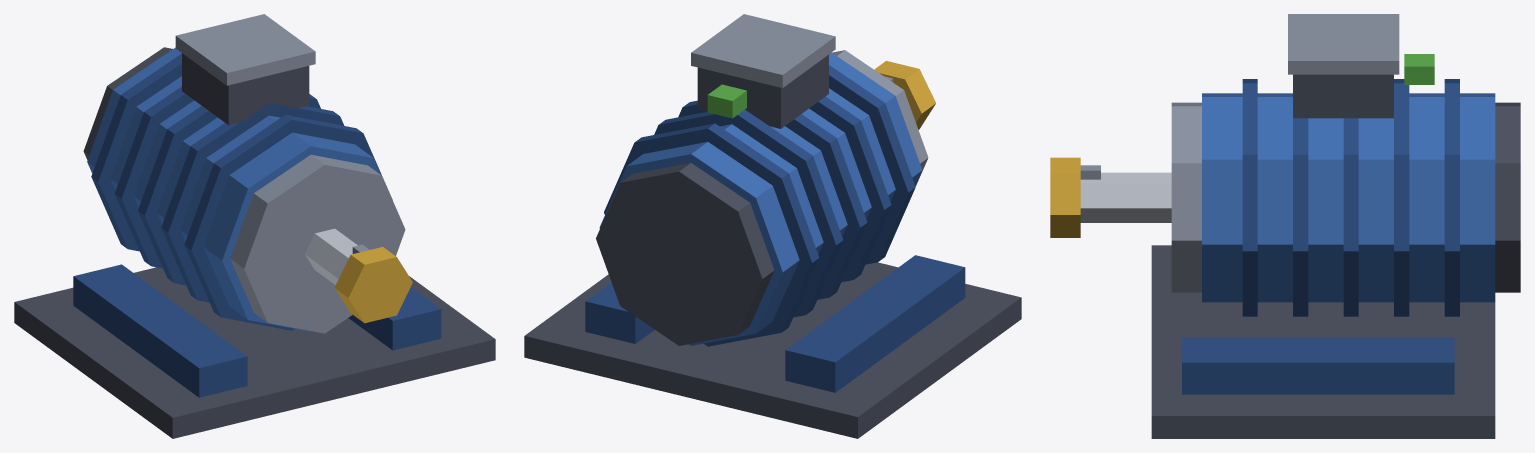
Rendered from motor.glb.
3 renders of one model, left to right at view 1: azimuth 30°, elevation 25°; view 2: azimuth 150°, elevation 25°; view 3: azimuth 270°, elevation 25°, orthographic. The views are drawn at different scales.
Visible parts, largest first — view 1: motor, spin-y; view 2: motor, spin-y; view 3: motor, spin-y.
Boxes of the visible parts, <box> form: motor: <box>14,14,495,438</box>; spin-y: <box>305,228,412,323</box>; motor: <box>524,14,1021,438</box>; spin-y: <box>874,61,935,129</box>; motor: <box>1151,14,1520,438</box>; spin-y: <box>1050,157,1171,237</box>.
Bounding box in the file's own units: 0.8 × 0.69 × 0.93.
2 materials, 2 textured.
